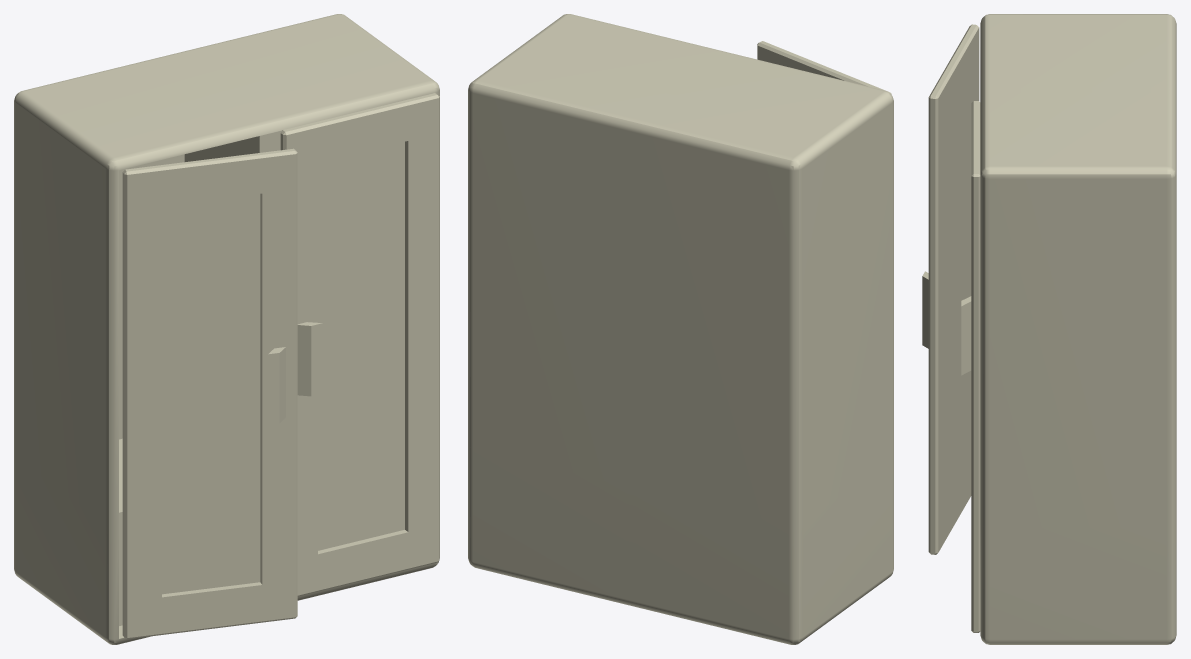
Rendered from Wardrobe.fbx.
3 renders of one model, left to right at view 1: azimuth 30°, elevation 25°; view 2: azimuth 150°, elevation 25°; view 3: azimuth 270°, elevation 25°, orthographic.
Visible parts, largest first — view 1: WardrobeOBJ; view 2: WardrobeOBJ; view 3: WardrobeOBJ.
Boxes of the visible parts, box(x1,y1,x2,y2) form: WardrobeOBJ: box(14, 14, 439, 644); WardrobeOBJ: box(468, 14, 893, 644); WardrobeOBJ: box(922, 14, 1176, 644).
Size of the model in its own units: 160 by 223 by 108.
2 materials, 2 textured.
